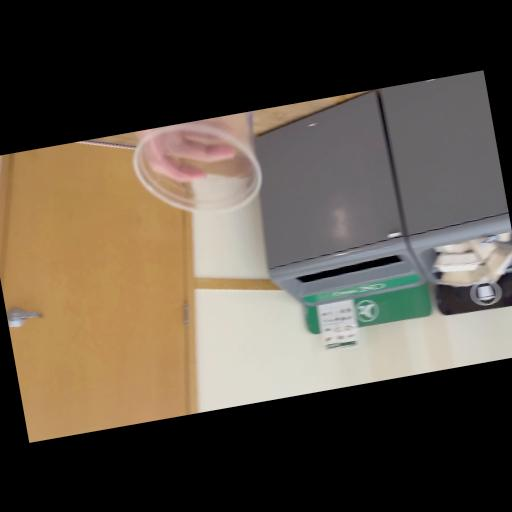lp_plastic_cup: (131, 108, 284, 236)
